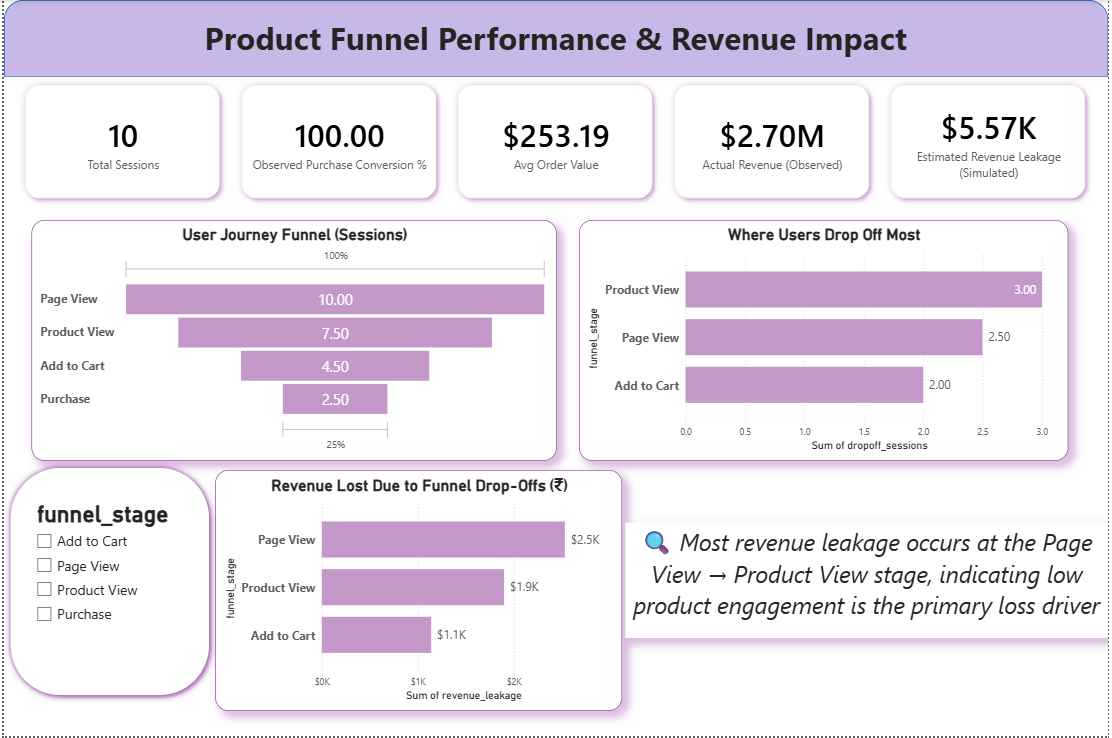

The dashboard page shown, as its layout file describes it:
{"tool":"powerbi","page":{"name":"Page 1","canvas":[1500,1000],"ordinal":0},"visuals":[{"type":"shape","box":[0,0,1500.3,104.8],"z":0},{"type":"textbox","box":[176.3,16.6,1146,68.2],"z":1000},{"type":"cardVisual","fields":{"Data":["_measures.Total Sessions","_measures.Purchase Conversion %","_measures.Avg Order Value","_measures.Total Revenue KPI","Sum(public funnel_revenue_leakage.revenue_leakage)"]},"box":[0,85.9,1500.2,213],"z":2000},{"type":"funnel","title":"User Journey Funnel (Sessions)","fields":{"Category":["public simulated_funnel_stage_sessions.funnel_stage"],"Y":["Sum(public simulated_funnel_stage_sessions.sessions)"]},"box":[37.4,298.9,713.7,326.9],"z":3000},{"type":"clusteredBarChart","title":"Where Users Drop Off Most","fields":{"Category":["public funnel_dropoff_sessions.funnel_stage"],"Y":["Sum(public funnel_dropoff_sessions.dropoff_sessions)"]},"box":[780.9,298.9,665.1,326.9],"z":4000},{"type":"clusteredBarChart","title":"Revenue Lost Due to Funnel Drop-Offs (₹)","fields":{"Y":["Sum(public funnel_revenue_leakage.revenue_leakage)"],"Category":["public funnel_revenue_leakage.funnel_stage"]},"box":[287.7,638.9,553,326.9],"z":5000},{"type":"shape","box":[0,625.9,287.7,326.9],"z":6000},{"type":"slicer","fields":{"Values":["public simulated_funnel_stage_sessions.funnel_stage"]},"box":[31.8,676.3,255.9,226.1],"z":7000},{"type":"textbox","box":[844.4,709.9,655.7,156.9],"z":8000}]}

Visuals, with their boxes in screenshot pixels (x1, y1, x2, y2), scaled from the page's 1500x1000 canvas onto the 1112x738 screenshot:
shape: 0 0 1111 77
textbox: 131 12 980 63
cardVisual - _measures.Total Sessions x _measures.Purchase Conversion %: 0 63 1111 221
"User Journey Funnel (Sessions)" funnel: 28 221 557 462
"Where Users Drop Off Most" clusteredBarChart: 579 221 1072 462
"Revenue Lost Due to Funnel Drop-Offs (₹)" clusteredBarChart: 213 472 623 713
shape: 0 462 213 703
slicer - public simulated_funnel_stage_sessions.funnel_stage: 24 499 213 666
textbox: 626 524 1111 640
